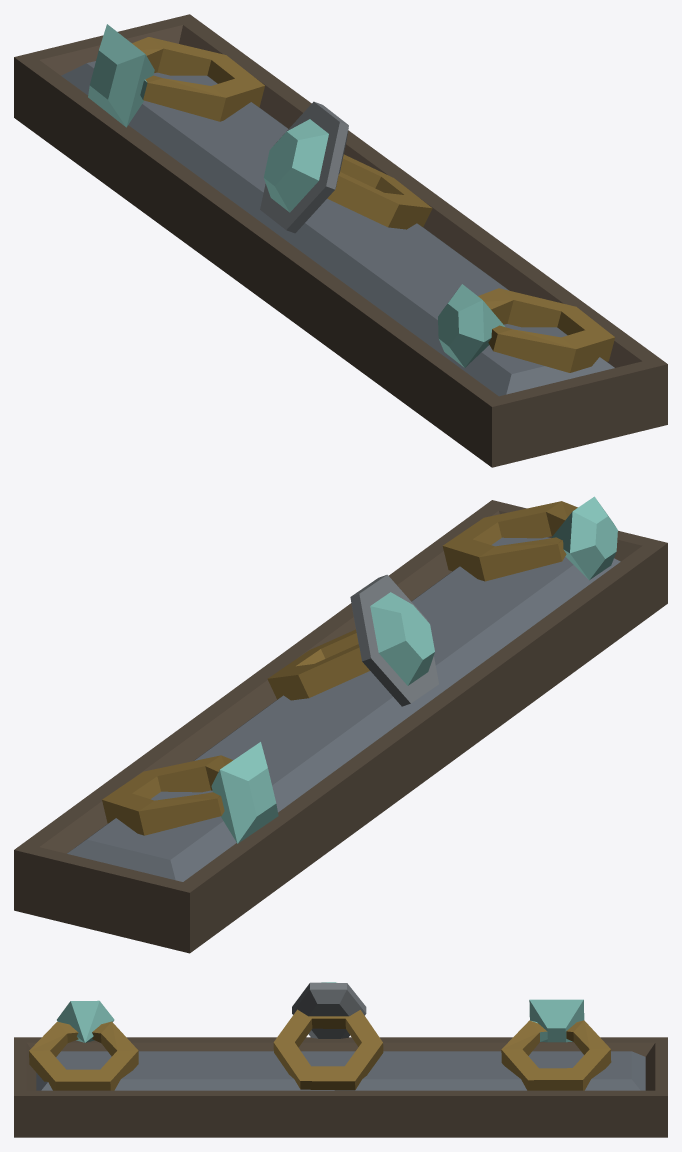
File: WM_ThreeRings.fbx
3 renders of one model, top to bottom at view 1: azimuth 30°, elevation 25°; view 2: azimuth 150°, elevation 25°; view 3: azimuth 270°, elevation 25°, orthographic. The views are drawn at different scales.
Parts seen in each view (by area): view 1: Tube_12; view 2: Tube_12; view 3: Tube_12.
Part boxes in pixels (x1,y1,x2,y2): Tube_12: [14, 14, 667, 467]; Tube_12: [14, 496, 667, 953]; Tube_12: [14, 982, 667, 1137].
Bounding box in the file's own units: 0.9382 × 0.8771 × 4.42.
